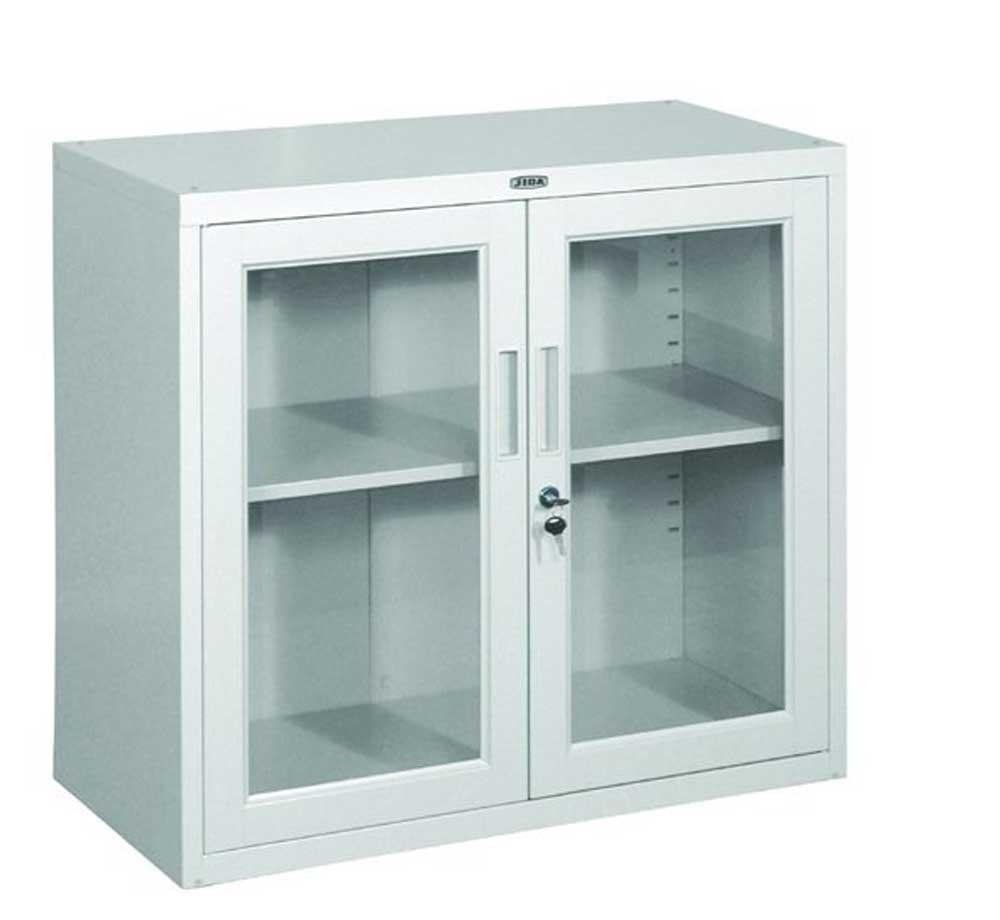cabinet_door: (206, 228, 532, 818), (528, 182, 833, 762)
handle: (536, 338, 564, 456), (494, 350, 523, 459)
